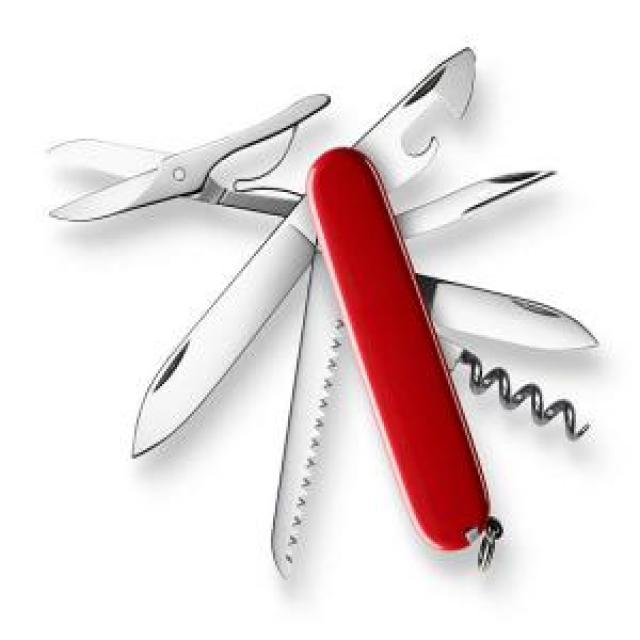knife: (130, 181, 320, 462), (361, 269, 608, 358), (356, 47, 480, 177), (378, 162, 556, 245)
